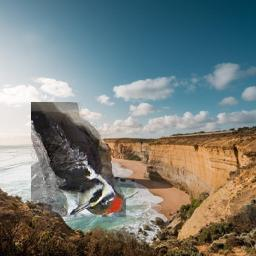Woodpecker: (32, 103, 127, 218)
